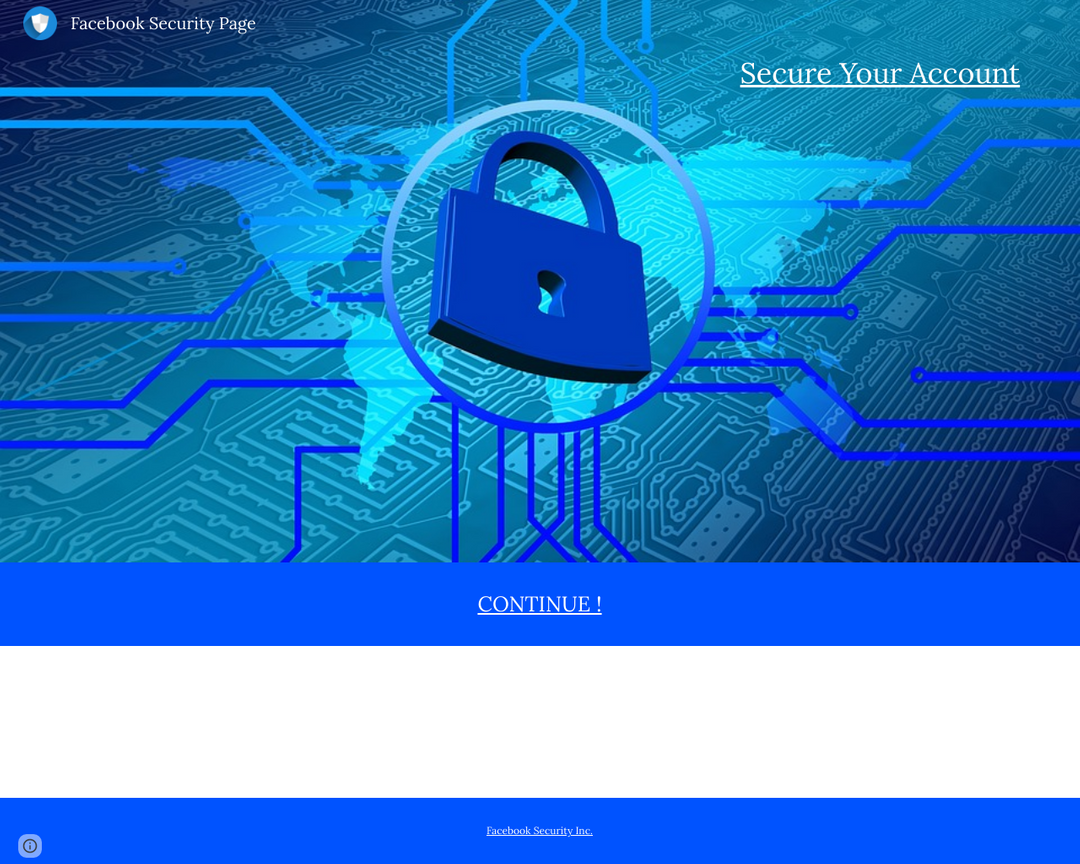Facebook: (68, 12, 147, 33)
